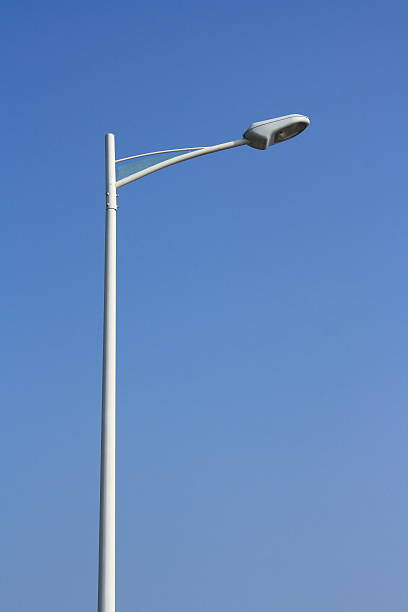light_pole: (101, 130, 119, 612)
